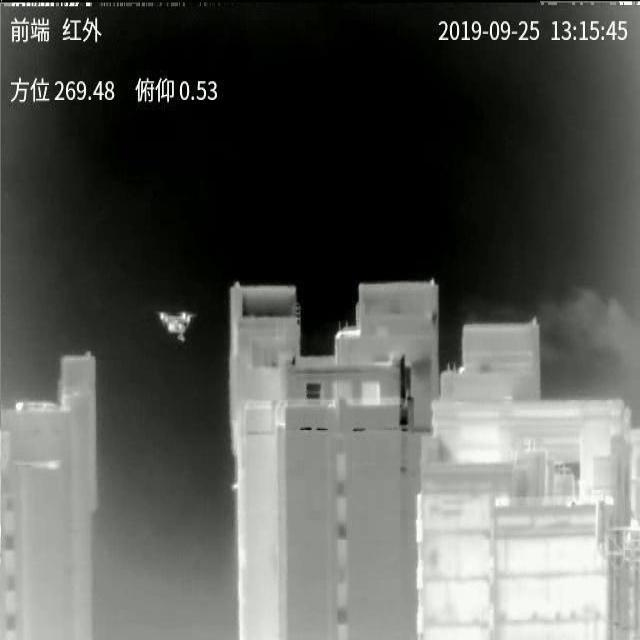drone: (158, 311, 196, 342)
